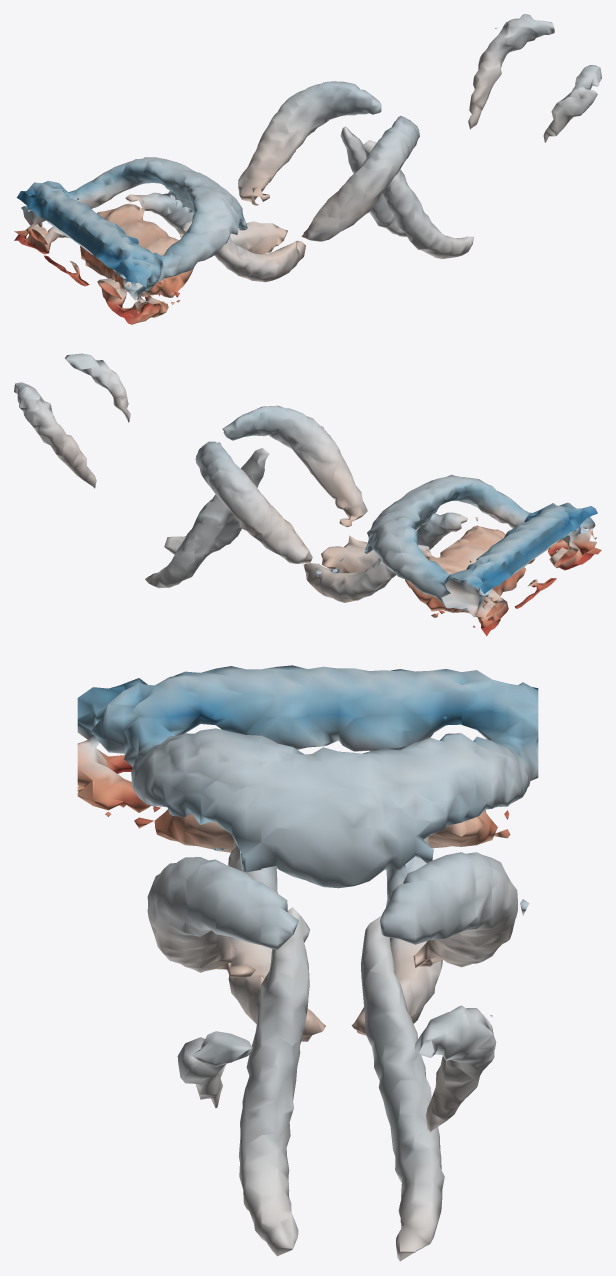
3 renders of one model, top to bottom at view 1: azimuth 30°, elevation 25°; view 2: azimuth 150°, elevation 25°; view 3: azimuth 270°, elevation 25°, orthographic. The views are drawn at different scales.
Size of the model in its own units: 6.25 by 2.18 by 2.5.
